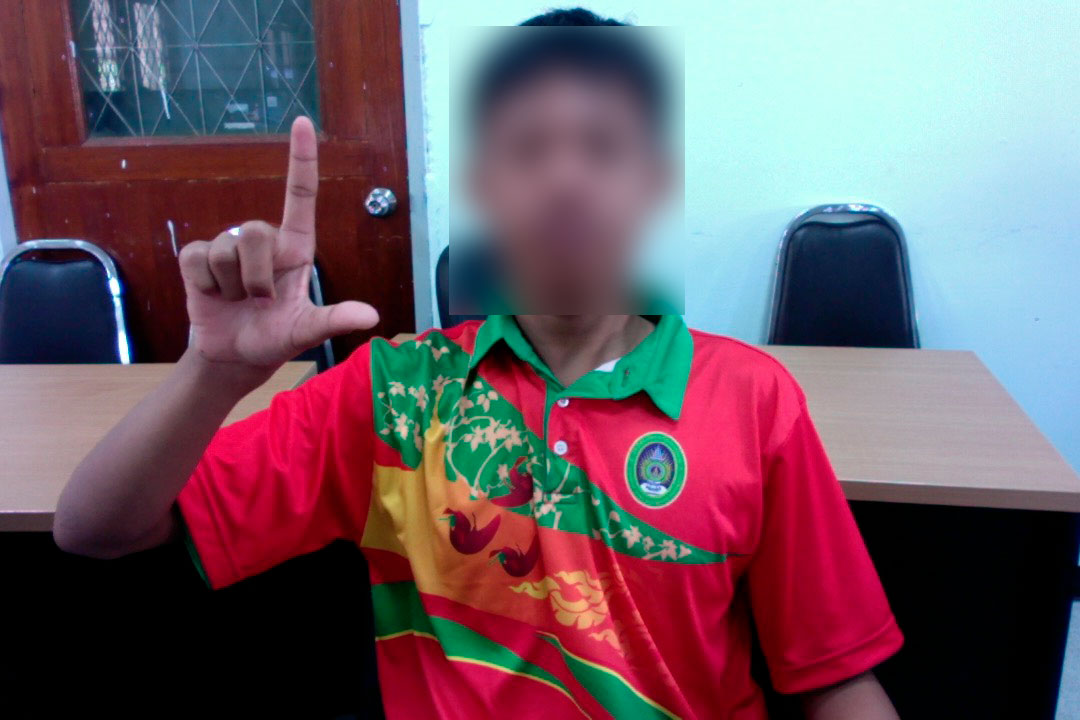lor: (144, 93, 394, 382)
